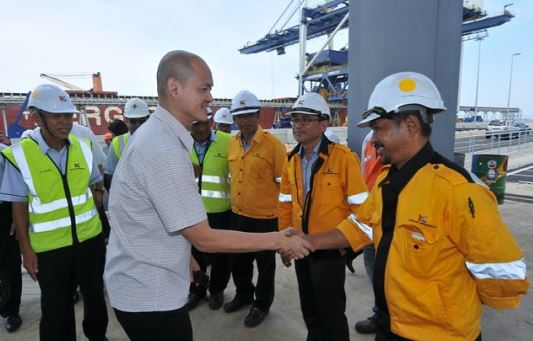No Safety Helmet: (146, 44, 217, 134)
Safety Helmet: (354, 64, 457, 181), (20, 80, 81, 144), (282, 88, 336, 152), (228, 86, 263, 139), (117, 91, 154, 141)
